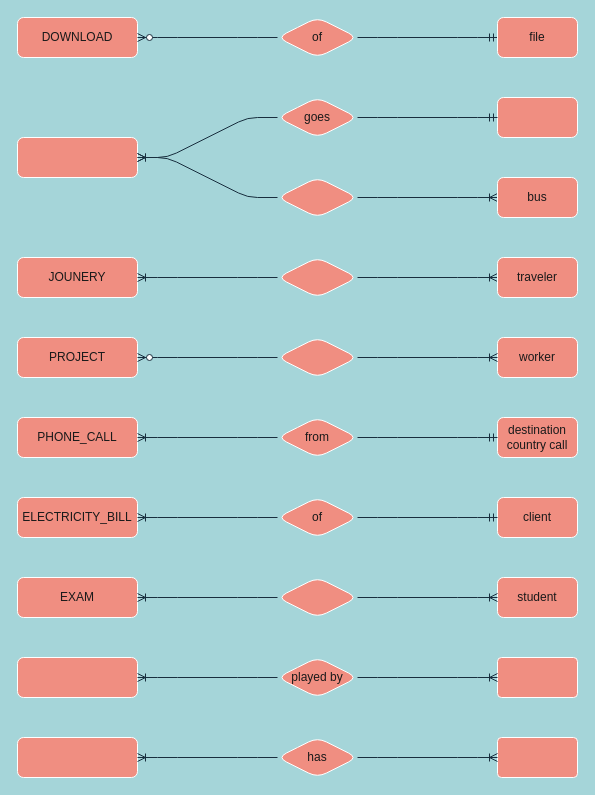
This 595x795 diagram has some shape labels left out. The shapes that lost their labels are listed below. From the top down, each one's centre as x and y in pixels, then its label:
At pixel 537 117: "station".
At pixel 77 157: "ROUTE".
At pixel 317 197: "with".
At pixel 317 277: "travel".
At pixel 317 357: "have".
At pixel 317 597: "done by".
At pixel 77 677: "PLAY".
At pixel 537 677: "players".
At pixel 77 757: "CARD".
At pixel 537 757: "brand".
